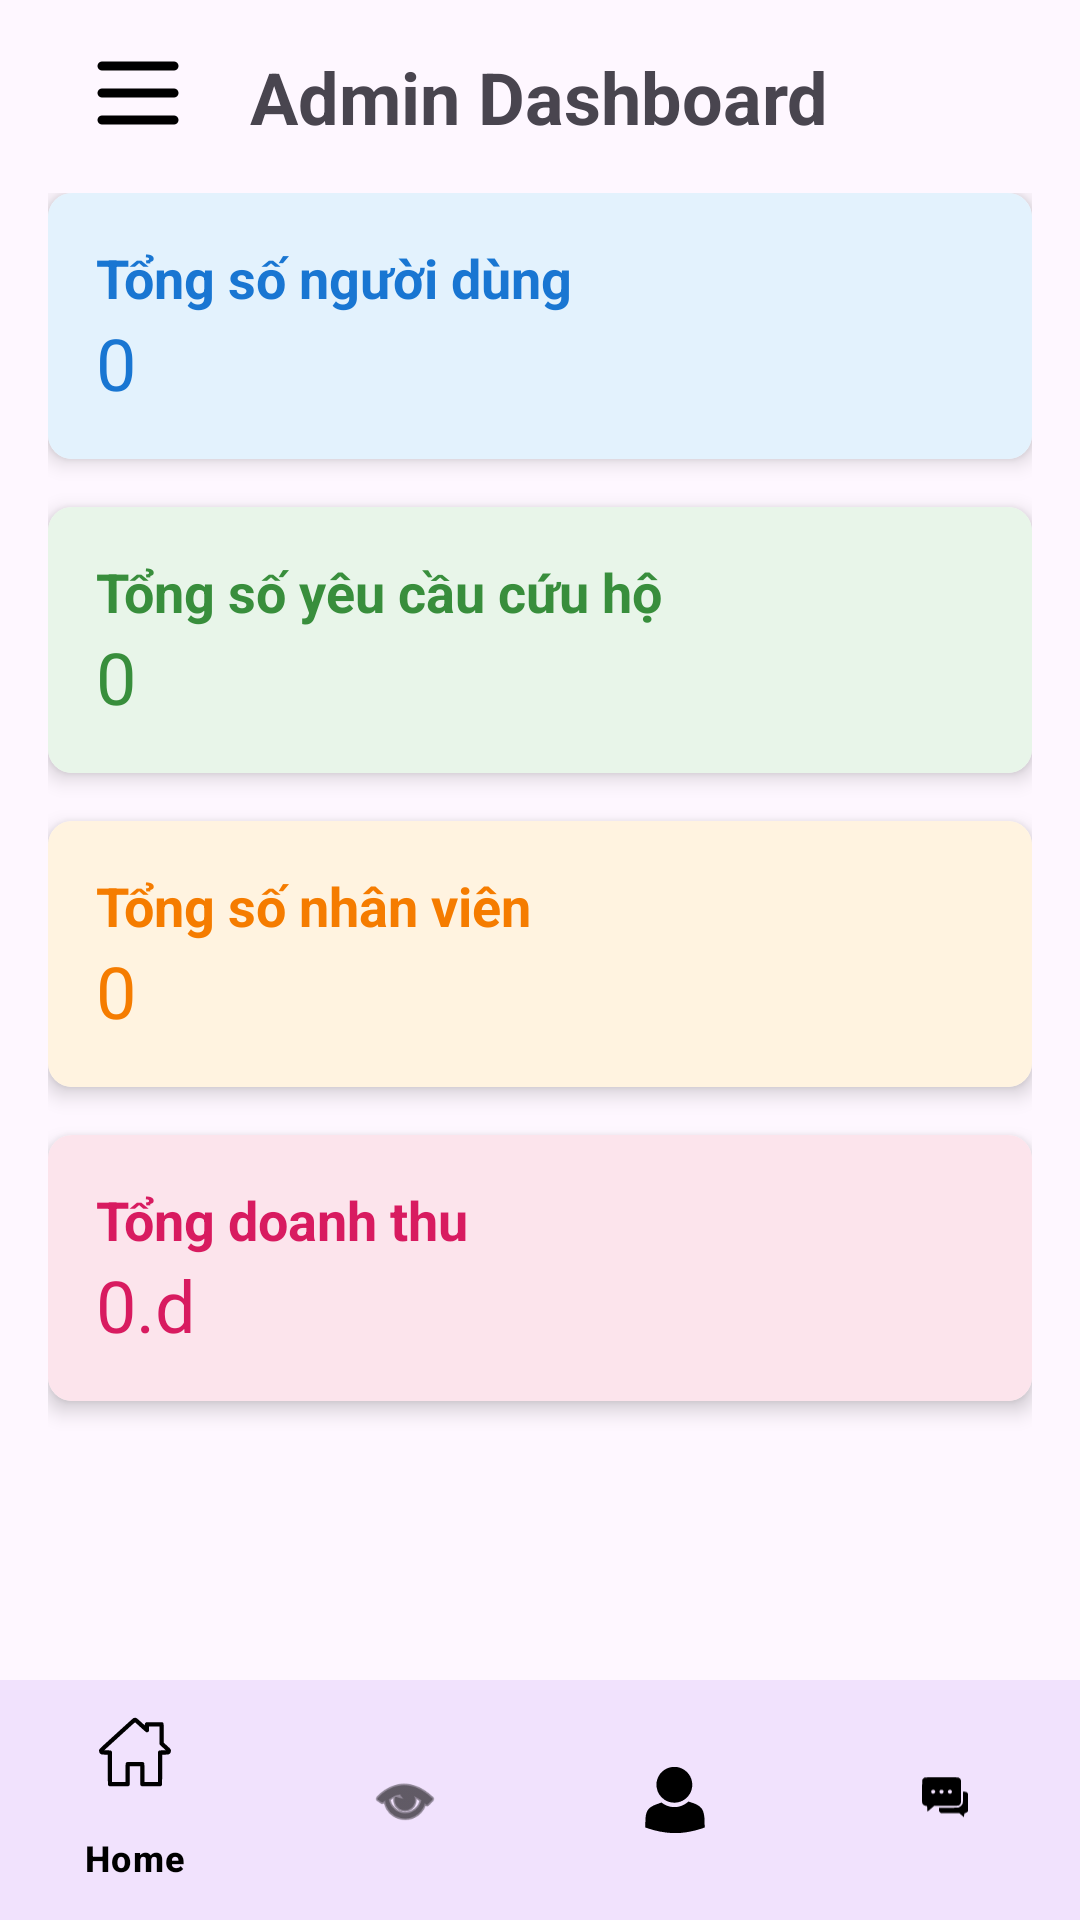

Named icons in this screenshot (1080×1920) and their centers, (x,y):
Menu: (138,93)
